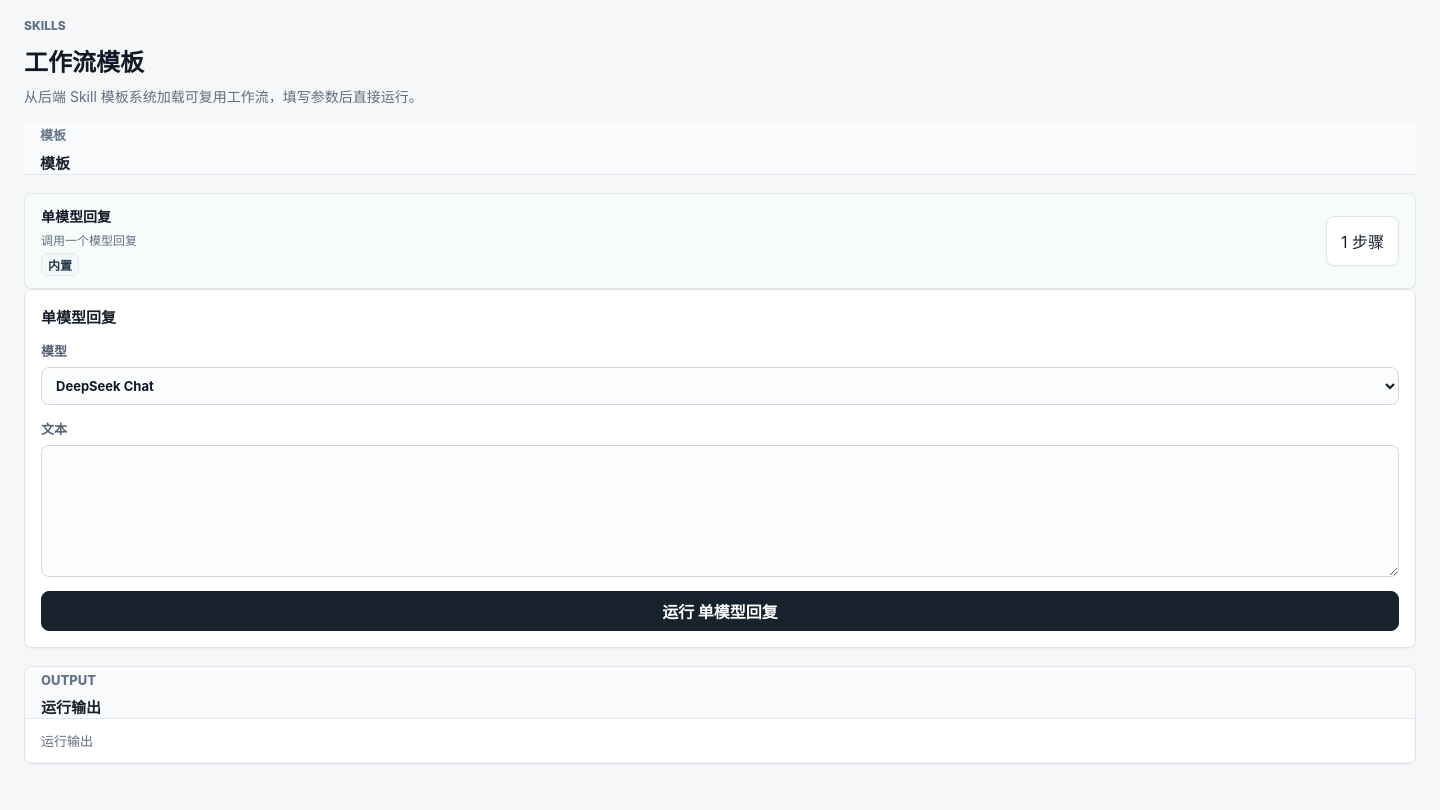
Test: WorkflowTemplatesPage › loads skill templates from the API and runs one with parameters
The image size is (1440, 810).
Expected: the heading "工作流模板" is shown, x1=24 y1=48 x2=144 y2=77
Expected: the text "调用一个模型回复" is shown, x1=41 y1=234 x2=137 y2=248
Select "DeepSeek Chat" in the dropdown labelled "模型" at (720, 386), box x1=41 y1=368 x2=1399 y2=406
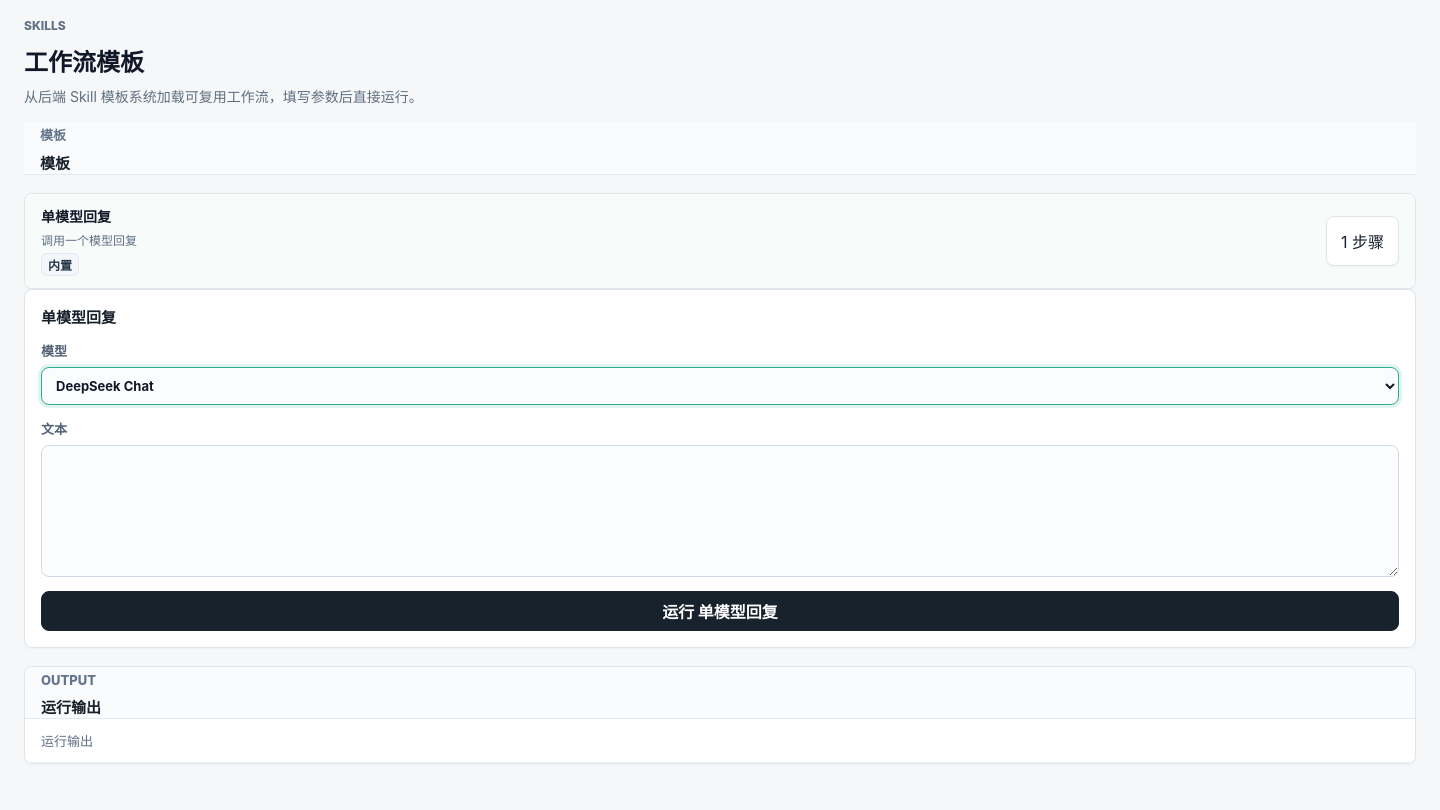
Type "Hello" into the text box labelled "文本".
click(720, 512); type("Hello")  # box x1=41 y1=446 x2=1399 y2=578
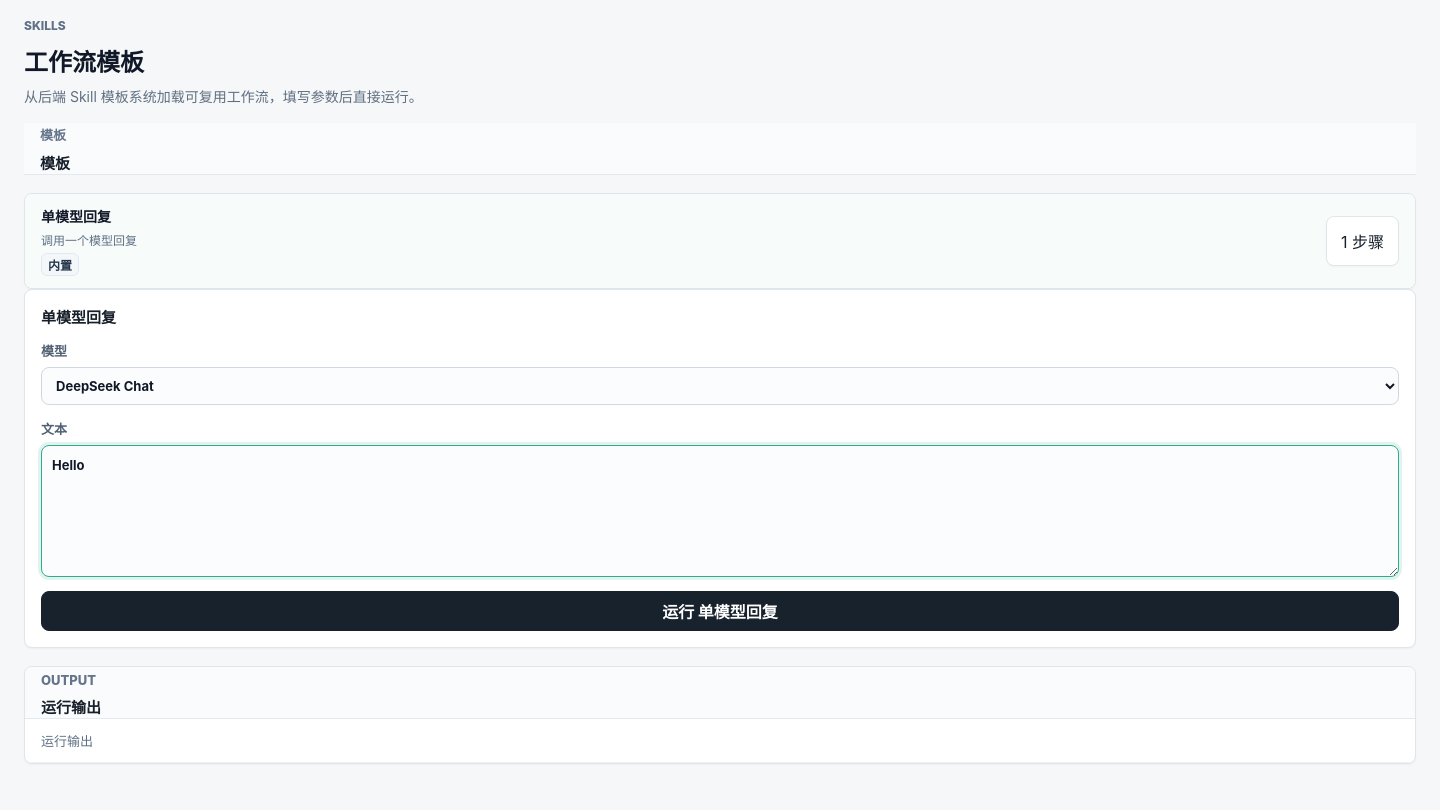
Click the button "运行 单模型回复".
click(720, 612)  # box x1=41 y1=592 x2=1399 y2=632
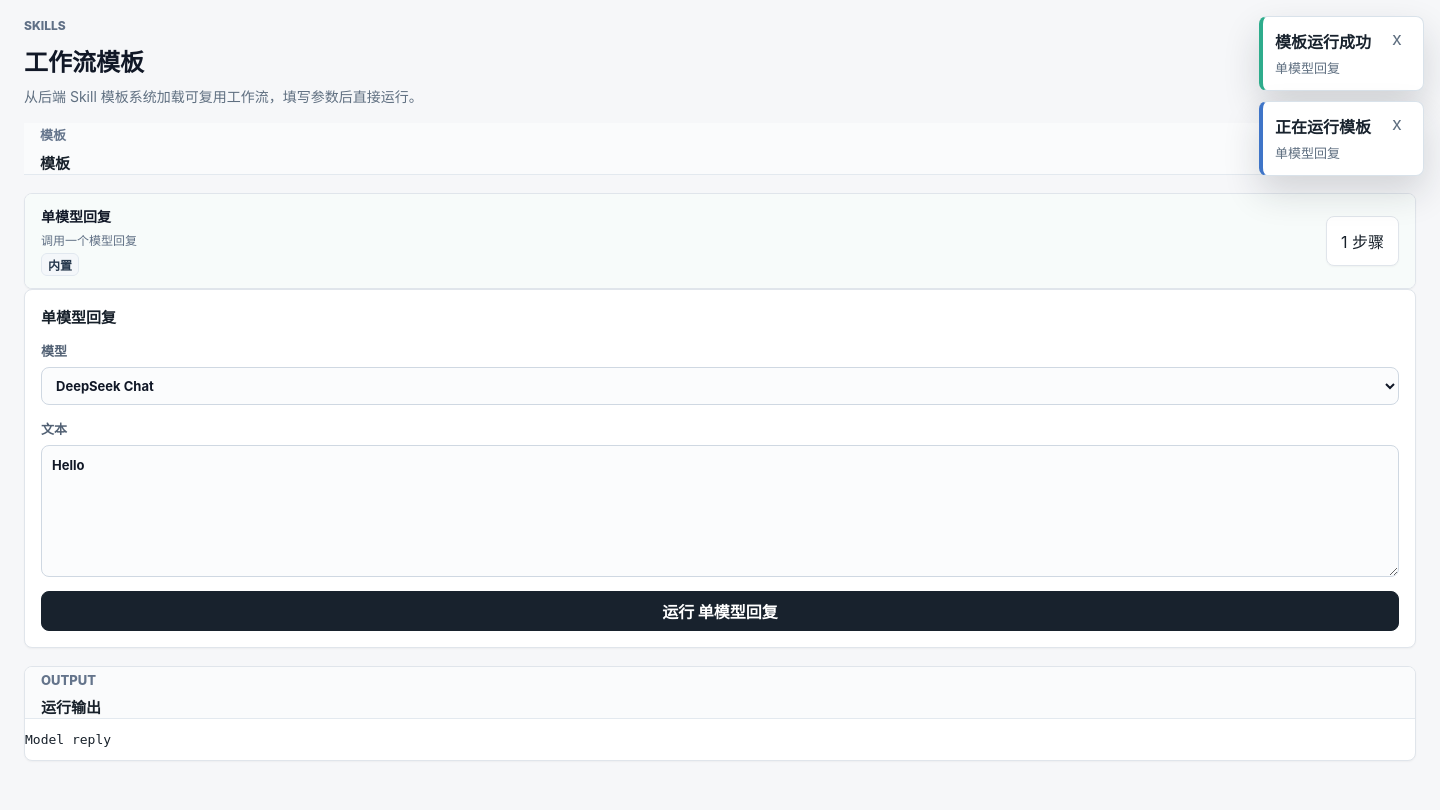
Result: the text "Model reply" is shown at x1=25 y1=732 x2=111 y2=748
